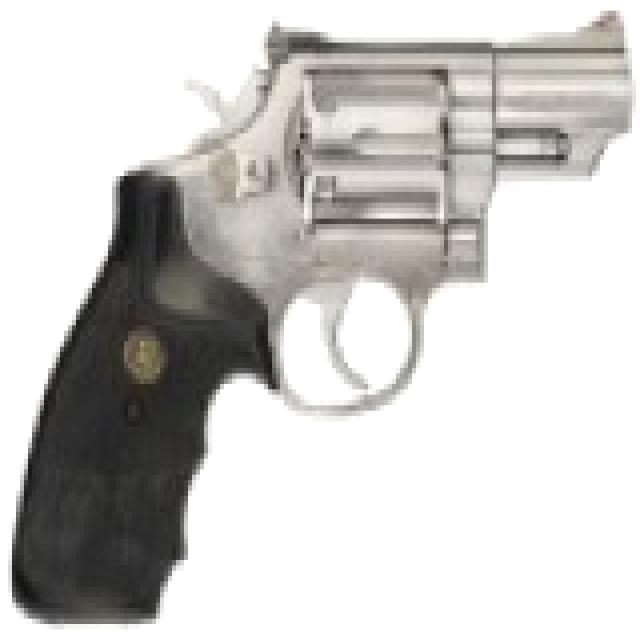pistol: (16, 0, 632, 619)
